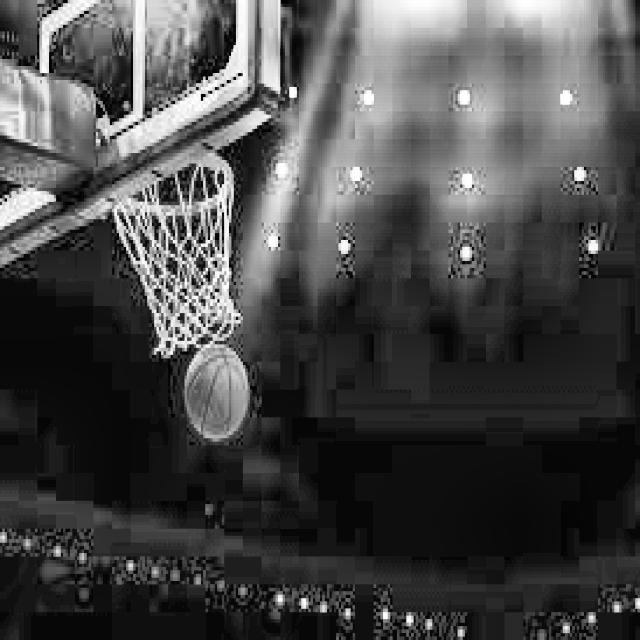Basketball: (185, 344, 250, 445)
